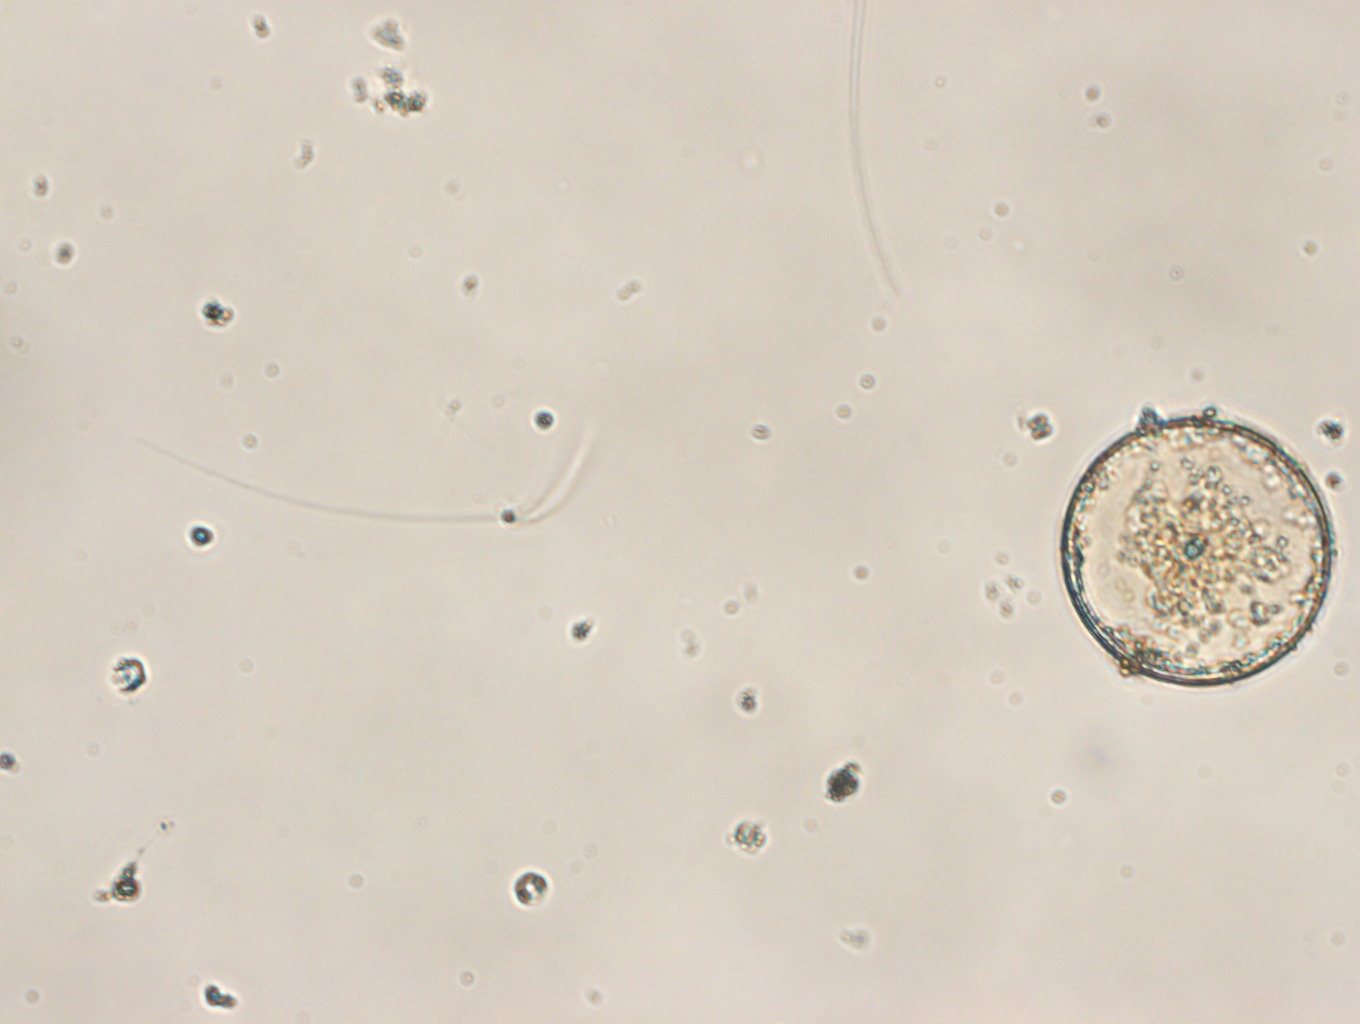coscinodiscus: (1058, 414, 1337, 689)
